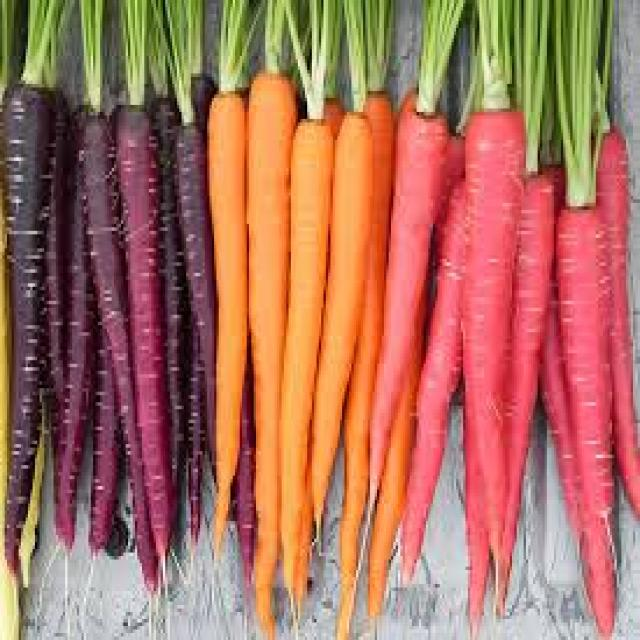Carrot: (247, 62, 295, 640), (203, 92, 253, 510)
